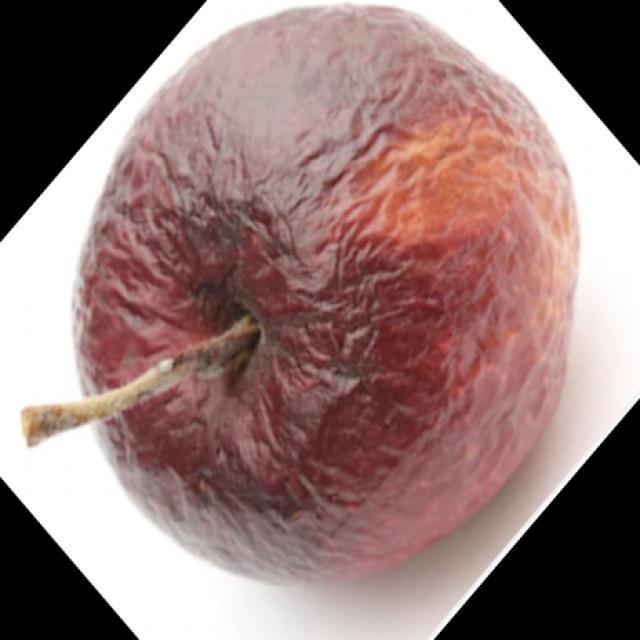Rotten: (81, 15, 572, 587)
